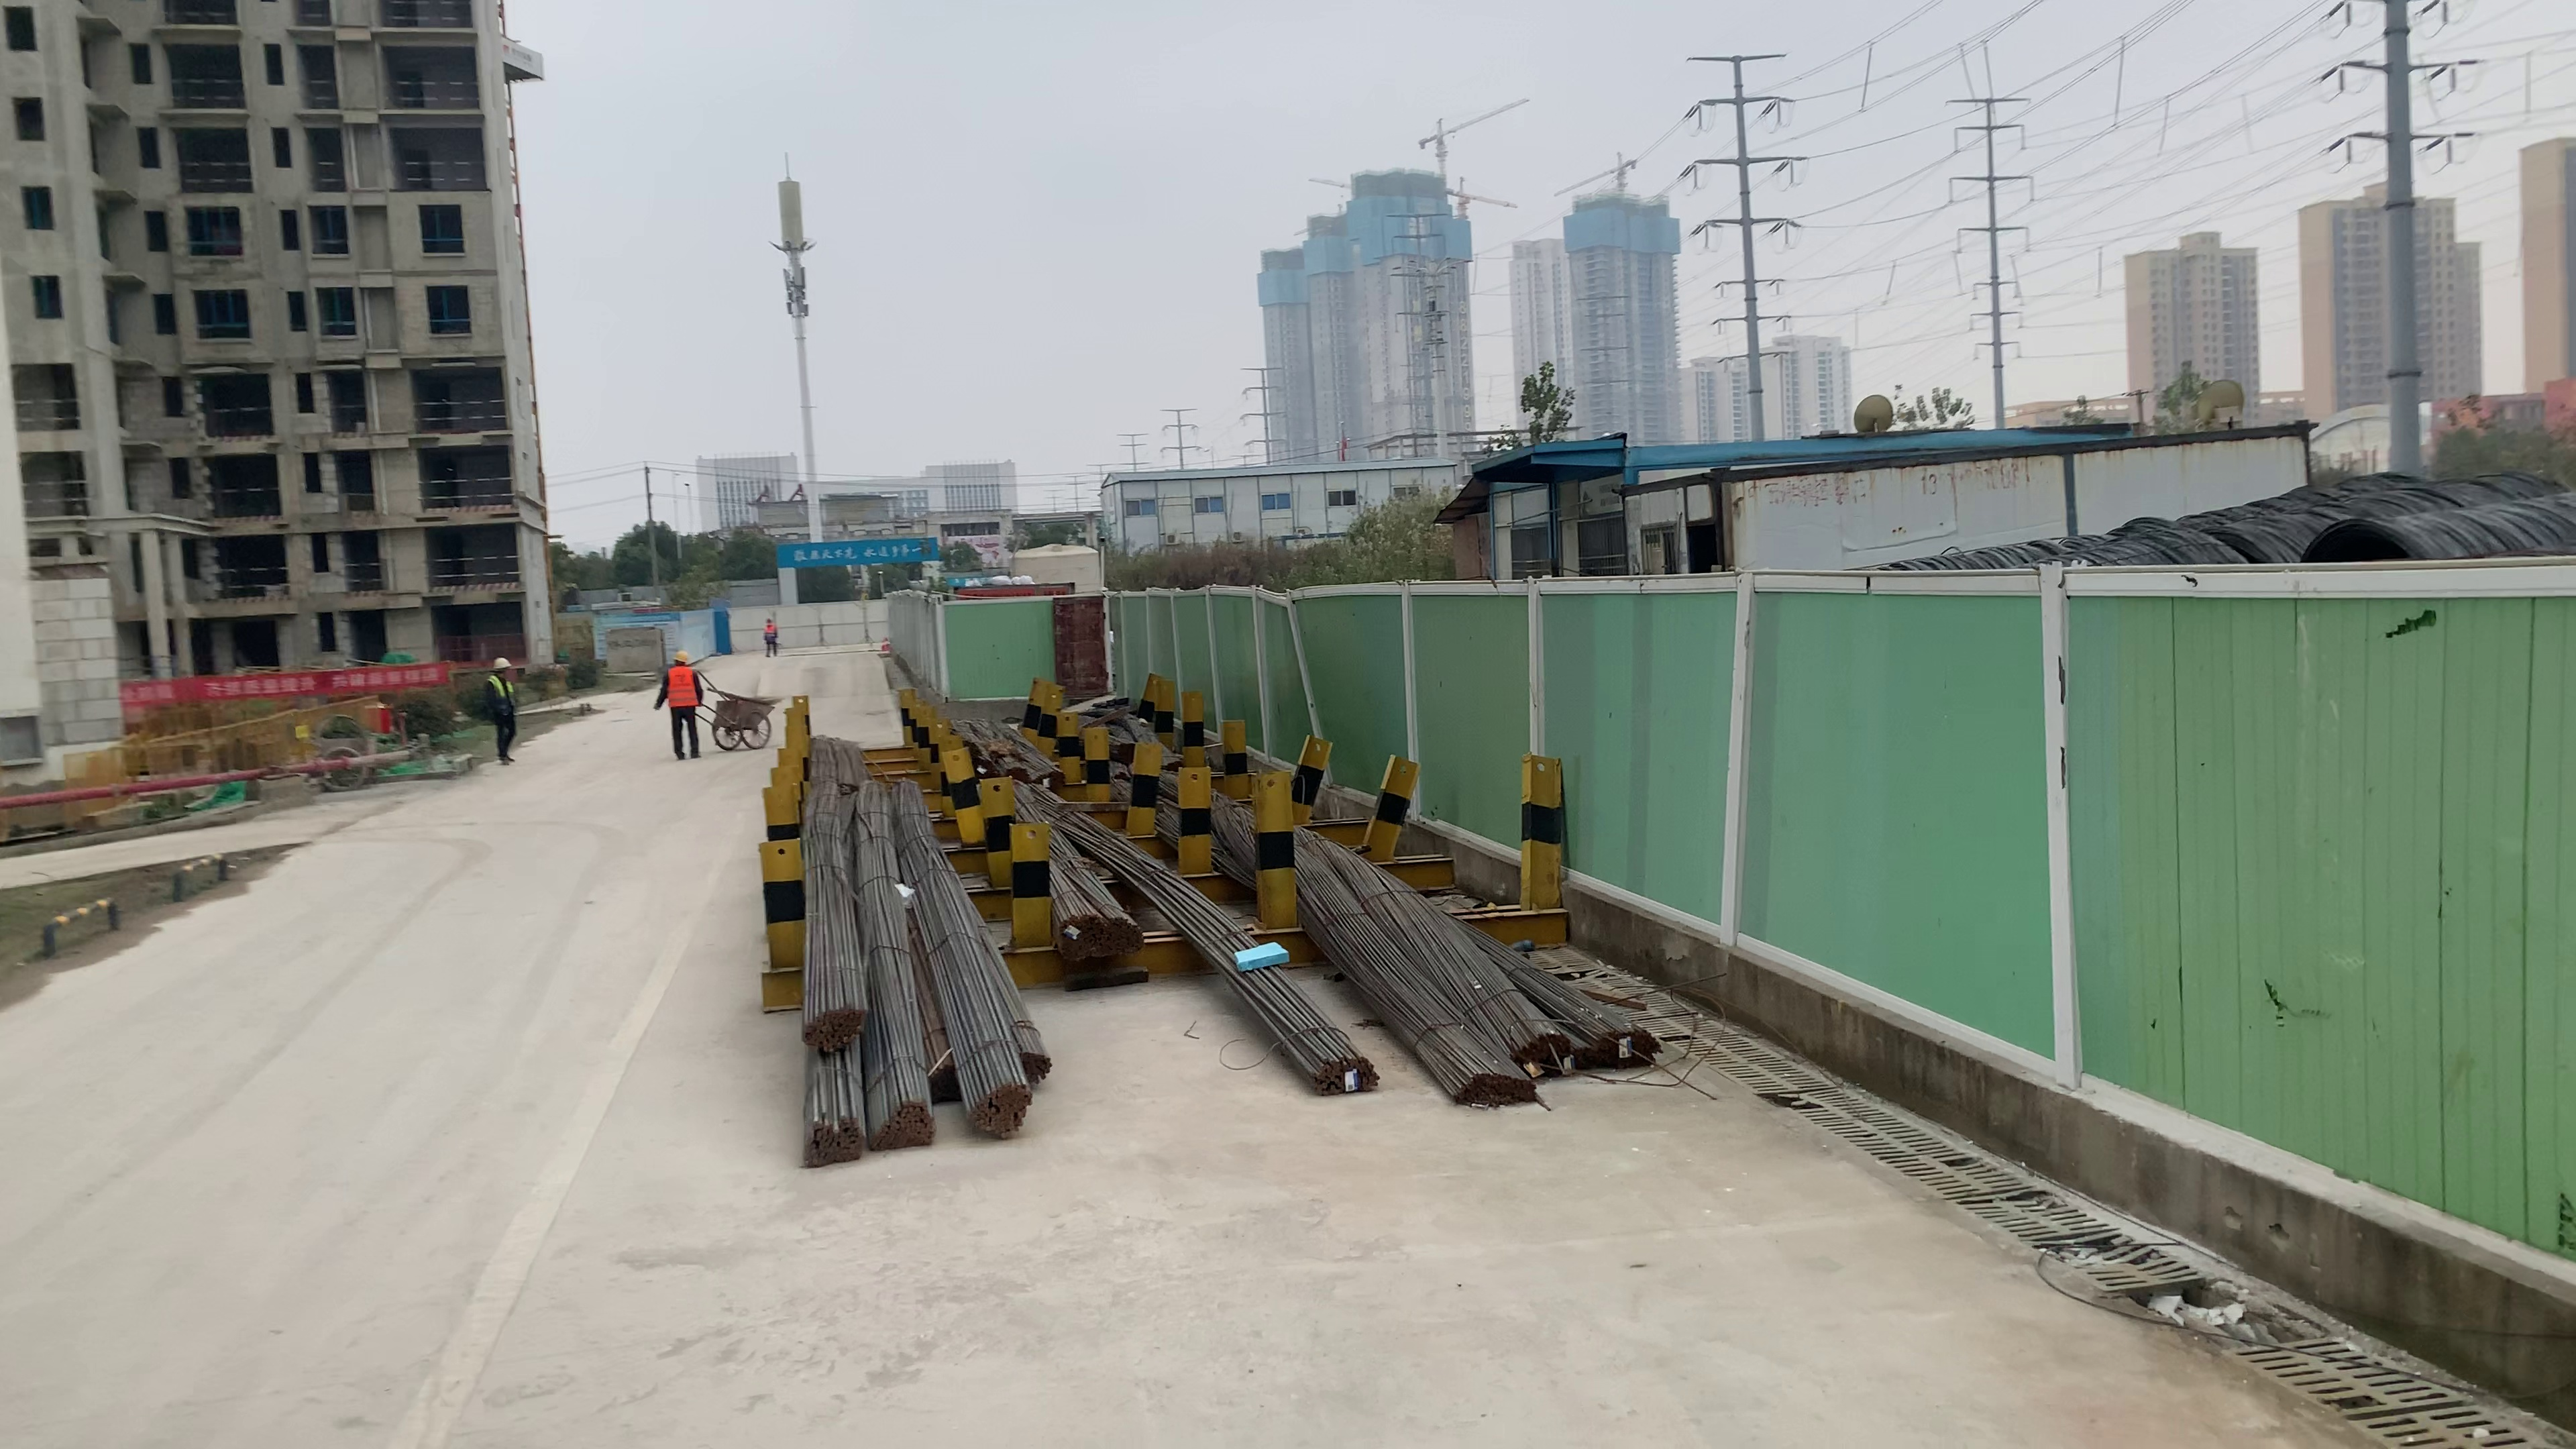rebar: (1451, 1070, 1536, 1115), (798, 1001, 865, 1056), (869, 1099, 941, 1148), (1311, 1049, 1380, 1099), (970, 1086, 1030, 1139), (1571, 1035, 1658, 1070), (801, 1118, 865, 1161), (1060, 915, 1108, 962), (1511, 1024, 1562, 1062), (925, 1060, 966, 1102), (1108, 911, 1148, 950), (1019, 1049, 1053, 1079)
